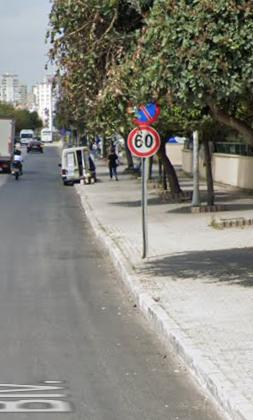nopark: (129, 94, 159, 125)
